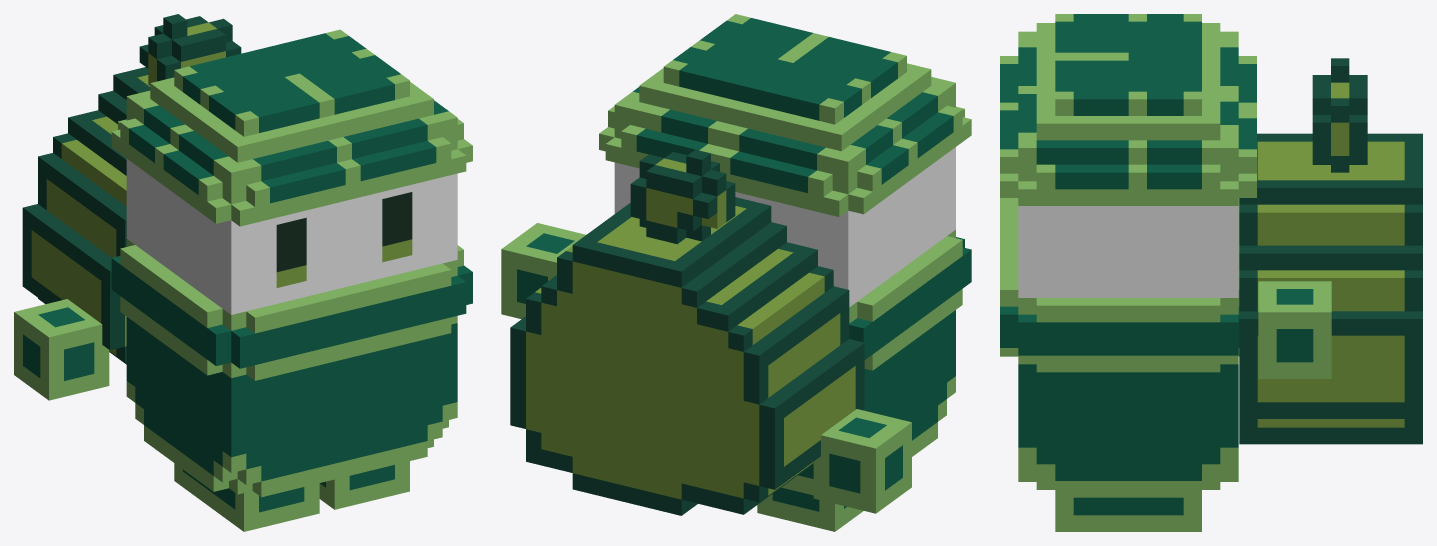
Rendered from p2SegHoldDizzy.gltf.
3 renders of one model, left to right at view 1: azimuth 30°, elevation 25°; view 2: azimuth 150°, elevation 25°; view 3: azimuth 270°, elevation 25°, orthographic. The views are drawn at different scales.
Visible parts, largest first — view 1: Yup2Zup.001; view 2: Yup2Zup.001; view 3: Yup2Zup.001.
Part boxes in pixels (left/top/right/bottom): Yup2Zup.001: left=14, top=14, right=472, bottom=531; Yup2Zup.001: left=501, top=14, right=971, bottom=531; Yup2Zup.001: left=1000, top=14, right=1422, bottom=531.
Bounding box in the file's own units: 2.4 × 2.6 × 2.3.
4 materials, 4 textured.
